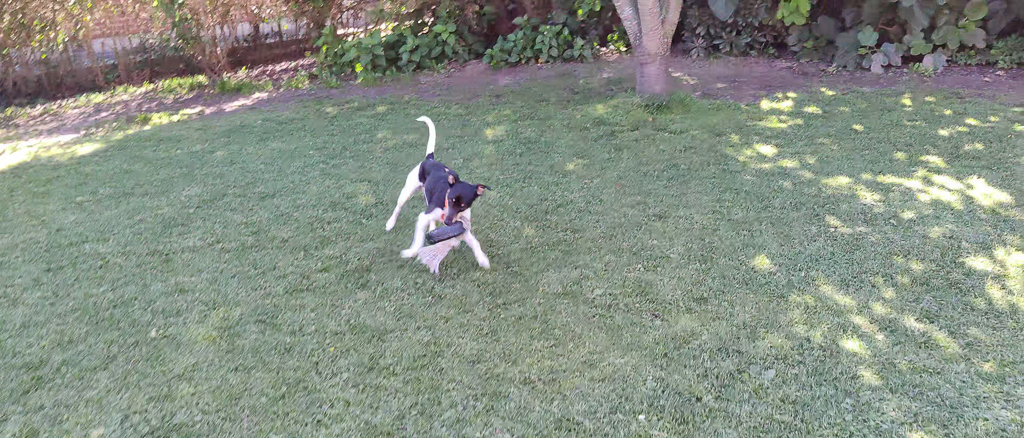Dog: (376, 112, 497, 278)
